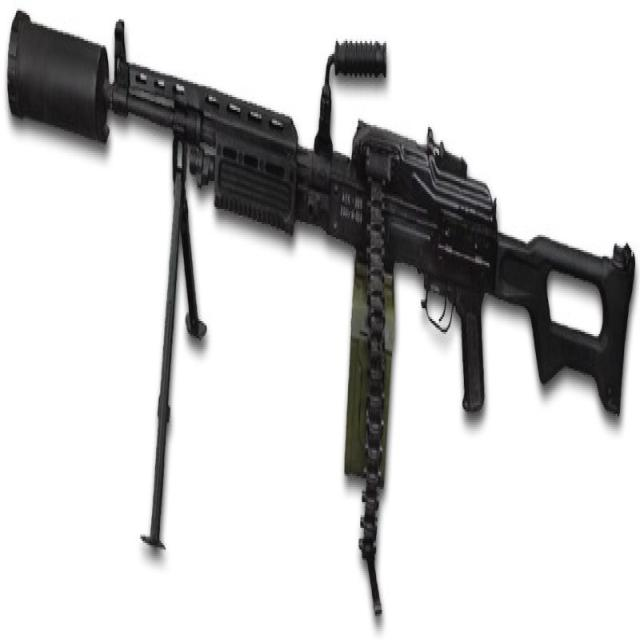firearm: (6, 3, 636, 626)
